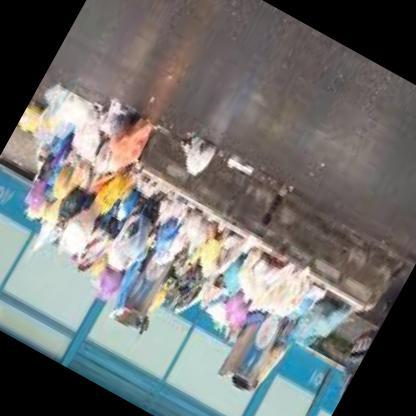Garbage: (0, 58, 198, 304), (25, 128, 202, 280), (13, 127, 158, 268), (154, 209, 276, 338), (257, 261, 354, 359), (228, 231, 322, 324), (168, 124, 220, 180)
